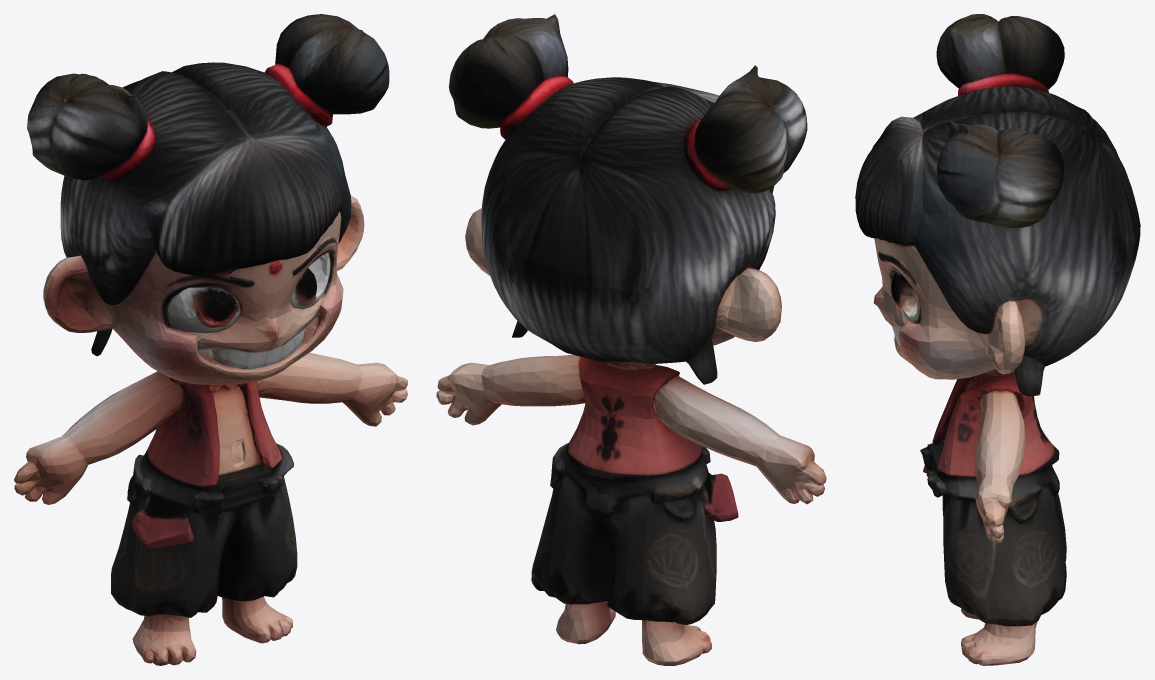
The model's file is sample.glb.
The picture shows the model from 3 angles, left to right: view 1: azimuth 30°, elevation 25°; view 2: azimuth 150°, elevation 25°; view 3: azimuth 270°, elevation 25°; orthographic projection. The views are drawn at different scales.
Visible parts, largest first — view 1: world; view 2: world; view 3: world.
Boxes of the visible parts, x1,y1,x2,y2 form: world: [14, 14, 407, 665]; world: [436, 14, 826, 665]; world: [855, 14, 1140, 665].
Bounding box in the file's own units: 0.6952 × 0.9972 × 0.4592.
Materials: 1 (1 with a texture image).
